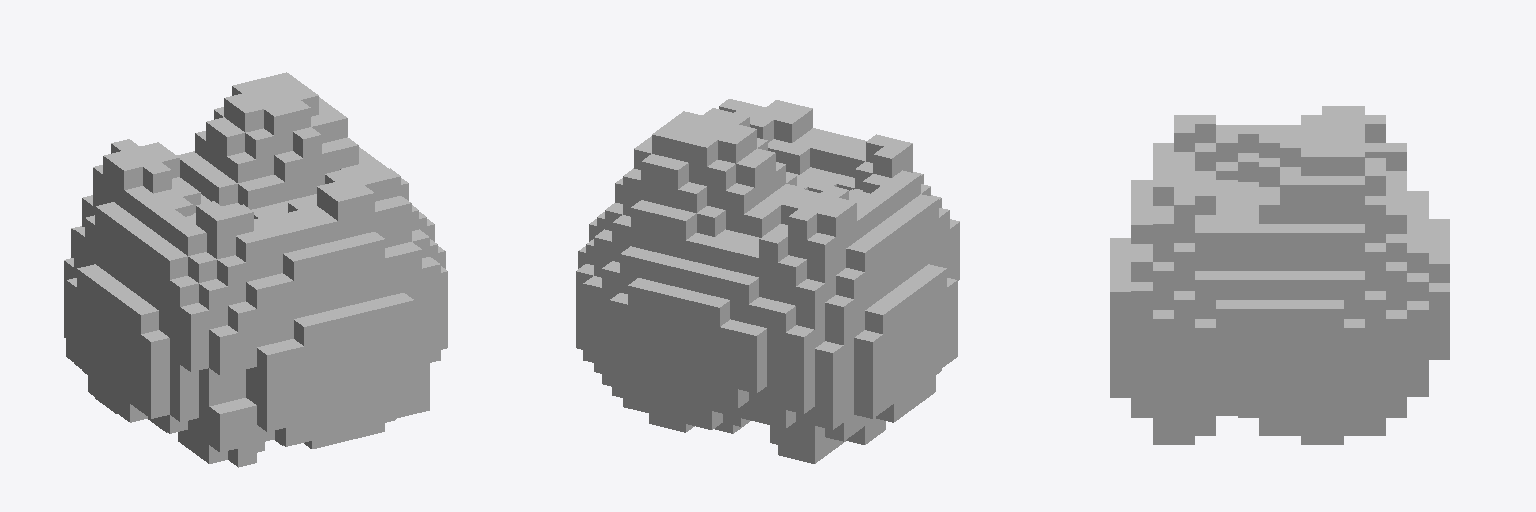
File: Rock.obj
3 views of the same model, side by side, from view 1: azimuth 30°, elevation 25°; view 2: azimuth 150°, elevation 25°; view 3: azimuth 270°, elevation 25° (orthographic).
Visible parts, largest first — view 1: object 1; view 2: object 1; view 3: object 1.
Boxes of the visible parts, <box> form: object 1: <box>64,72,447,467</box>; object 1: <box>576,99,959,463</box>; object 1: <box>1110,106,1449,444</box>.
Size of the model in its own units: 1.6 by 1.4 by 1.6.